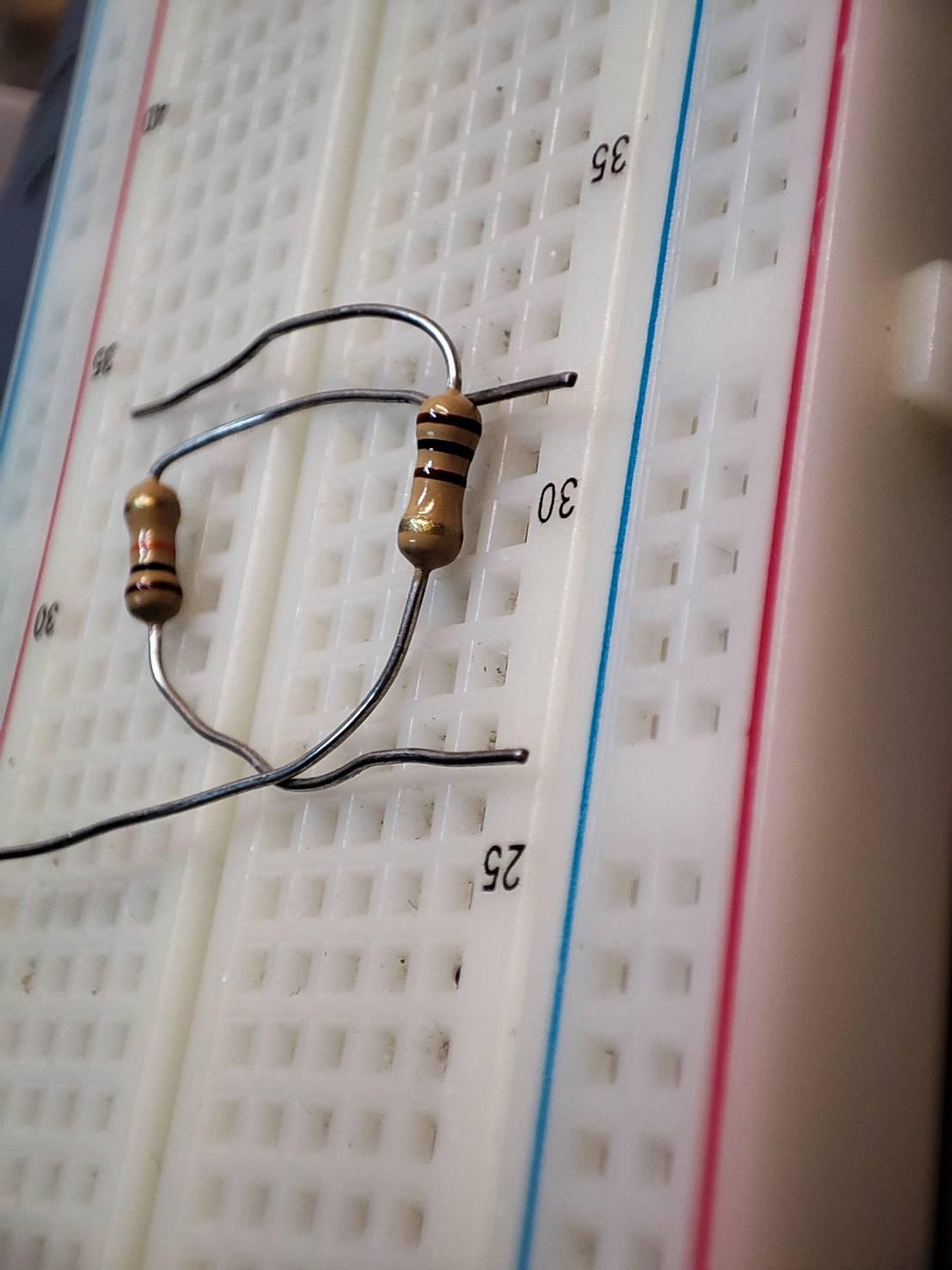resistor: (118, 473, 180, 632)
